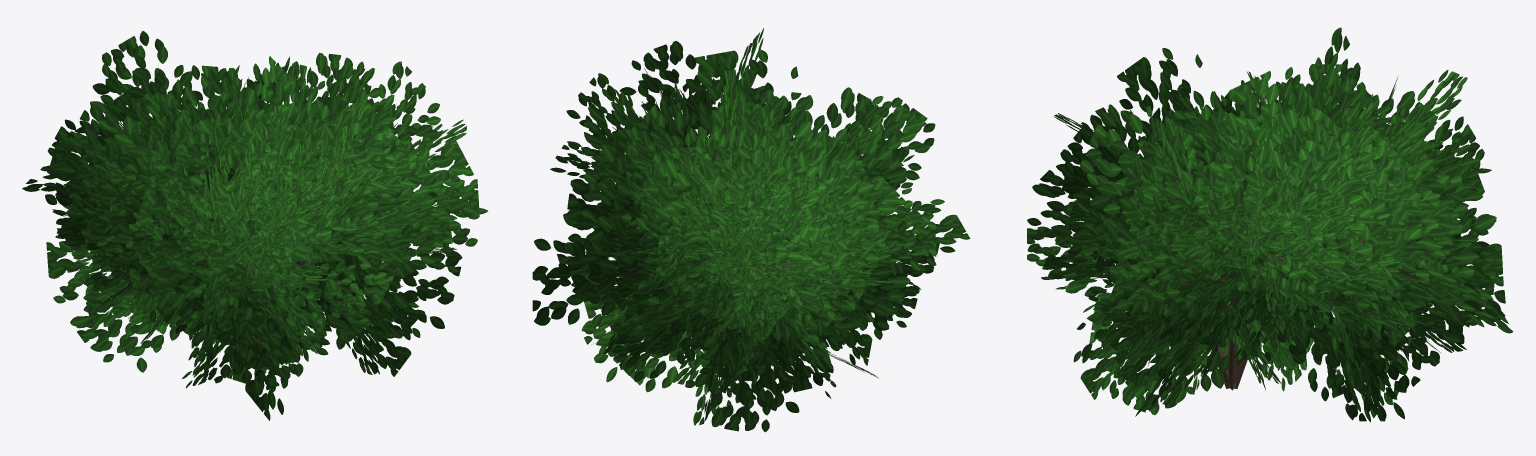
The model's file is shrub.glb.
3 renders of one model, left to right at view 1: azimuth 30°, elevation 25°; view 2: azimuth 150°, elevation 25°; view 3: azimuth 270°, elevation 25°, orthographic. The views are drawn at different scales.
Visible parts, largest first — view 1: Canopy; view 2: Canopy; view 3: Canopy, shrub.
Boxes of the visible parts, left/top/right/bottom form: Canopy: left=22, top=31, right=487, bottom=420; Canopy: left=532, top=28, right=970, bottom=432; Canopy: left=1027, top=27, right=1513, bottom=422; shrub: left=1212, top=277, right=1250, bottom=390.
Bounding box in the file's own units: 1.89 × 1.59 × 2.
2 materials, 1 textured.
